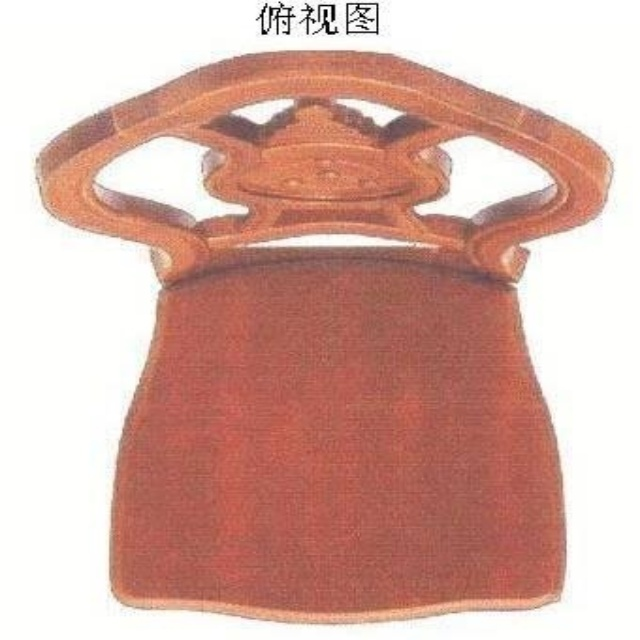obstacle: (38, 50, 608, 621)
